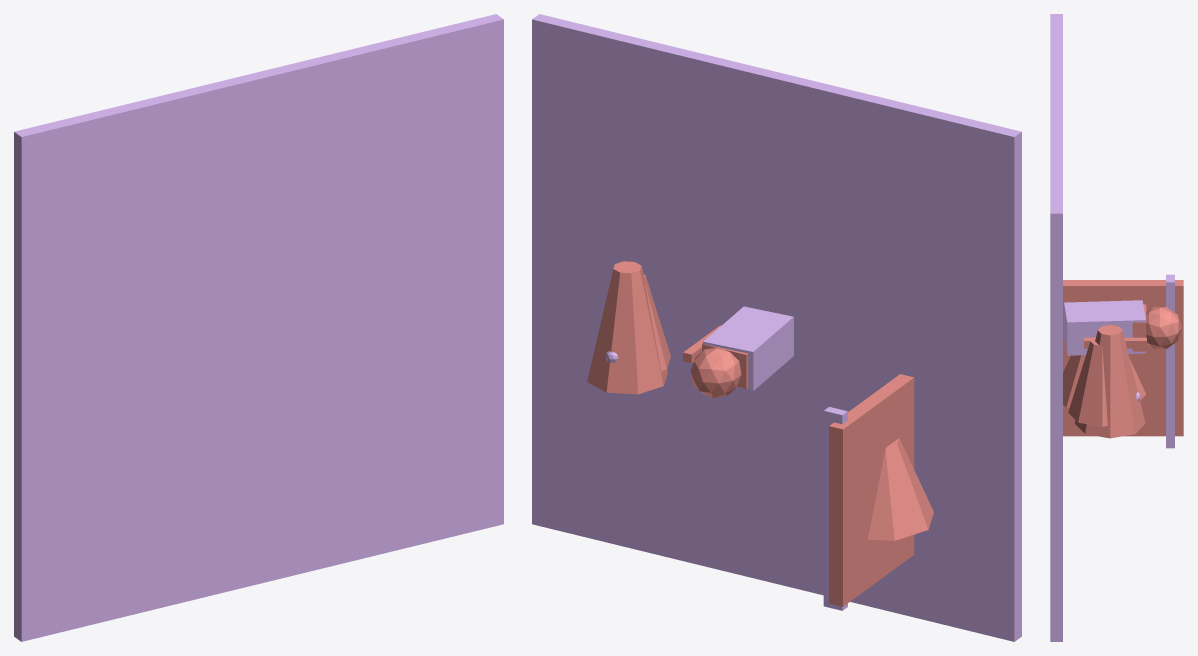
The model's file is blackwood-manor-kit.glb.
The picture shows the model from 3 angles, left to right: view 1: azimuth 30°, elevation 25°; view 2: azimuth 150°, elevation 25°; view 3: azimuth 270°, elevation 25°; orthographic projection. The views are drawn at different scales.
Parts seen in each view (by area): view 1: ENVIRONMENT_GROUND; view 2: ENVIRONMENT_GROUND, PROFILE_ENVIRONMENT_DETAIL, PROFILE_OBSTACLE_DETAIL, ENVIRONMENT_LANDMARK, PLAYER_BODY, PLAYER_HEAD, PROFILE_ENVIRONMENT_TRIM, OBSTACLE; view 3: ENVIRONMENT_GROUND, PROFILE_ENVIRONMENT_DETAIL, PROFILE_OBSTACLE_DETAIL, PLAYER_BODY, OBSTACLE, PLAYER_HEAD, PROFILE_ENVIRONMENT_TRIM, ENVIRONMENT_LANDMARK, PROFILE_PLAYER_DETAIL, PLAYER_TOOL.
Part boxes in pixels (box(x1,y1,x2,y2)): ENVIRONMENT_GROUND: box(14, 14, 503, 641); ENVIRONMENT_GROUND: box(532, 14, 1021, 641); PROFILE_ENVIRONMENT_DETAIL: box(829, 374, 914, 606); PROFILE_OBSTACLE_DETAIL: box(587, 261, 667, 394); ENVIRONMENT_LANDMARK: box(868, 438, 933, 540); PLAYER_BODY: box(703, 306, 793, 390); PLAYER_HEAD: box(690, 347, 741, 398); PROFILE_ENVIRONMENT_TRIM: box(823, 407, 847, 610); OBSTACLE: box(644, 274, 670, 371); ENVIRONMENT_GROUND: box(1050, 14, 1062, 641); PROFILE_ENVIRONMENT_DETAIL: box(1063, 280, 1183, 436); PROFILE_OBSTACLE_DETAIL: box(1074, 325, 1145, 438); PLAYER_BODY: box(1064, 300, 1145, 355); OBSTACLE: box(1068, 337, 1107, 426); PLAYER_HEAD: box(1146, 307, 1181, 348); PROFILE_ENVIRONMENT_TRIM: box(1166, 274, 1174, 448); ENVIRONMENT_LANDMARK: box(1063, 355, 1146, 408); PROFILE_PLAYER_DETAIL: box(1132, 304, 1146, 351); PLAYER_TOOL: box(1084, 337, 1146, 348).
Size of what is drawn, in the model's own units: 9 by 9 by 2.54.
